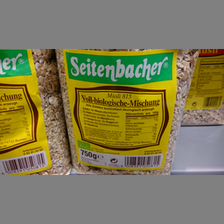cereal: (55, 50, 198, 176), (1, 49, 74, 174)
